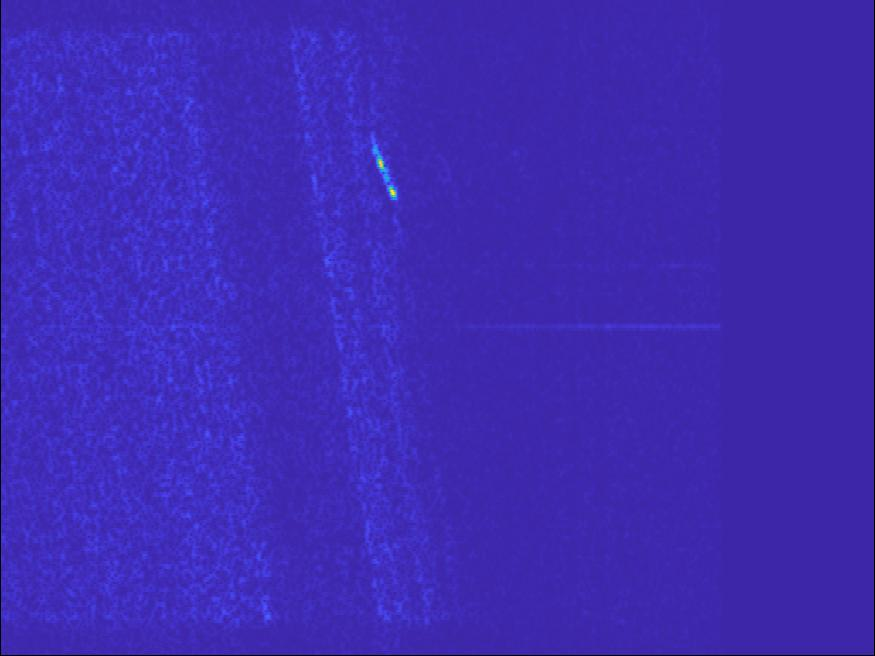Interference: (531, 290, 723, 461), (24, 295, 255, 369), (709, 308, 835, 359), (776, 367, 874, 421), (690, 68, 783, 121)
